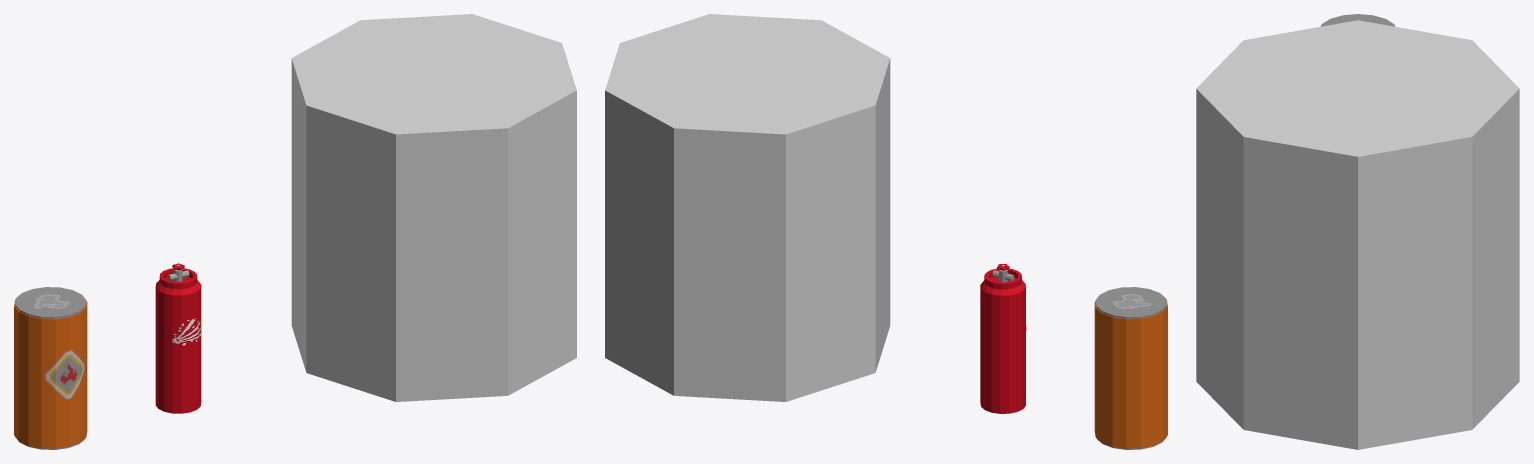
File: Barrels.fbx
3 views of the same model, side by side, from view 1: azimuth 30°, elevation 25°; view 2: azimuth 150°, elevation 25°; view 3: azimuth 270°, elevation 25° (orthographic). The views are drawn at different scales.
Parts seen in each view (by area): view 1: CylinderCol, FireBarrel, PressureBarrel; view 2: CylinderCol, FireBarrel, PressureBarrel; view 3: CylinderCol, FireBarrel.
Boxes of the visible parts, box(x1,y1,x2,y2) form: CylinderCol: box(291, 14, 576, 401); FireBarrel: box(14, 287, 87, 449); PressureBarrel: box(155, 263, 201, 413); CylinderCol: box(605, 14, 890, 401); FireBarrel: box(1094, 287, 1167, 449); PressureBarrel: box(980, 264, 1026, 413); CylinderCol: box(1196, 20, 1519, 449); FireBarrel: box(1320, 14, 1395, 26).
Bounding box in the file's own units: 4.25 × 2 × 2.
